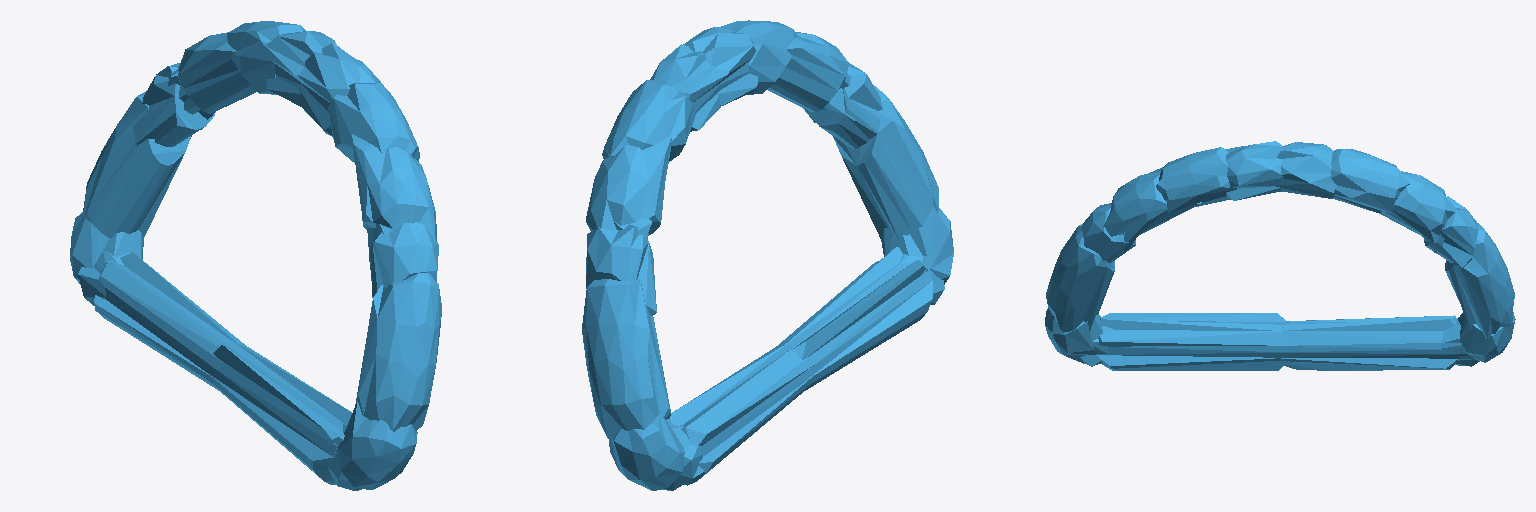
robot.urdf — partnet_8413150255e75b24c90fdc5cc248daed:
<?xml version="1.0" ?><robot name="partnet_8413150255e75b24c90fdc5cc248daed">
	<link name="base"/>
	<link name="link_0">
		<visual>
			<origin xyz="0 -0.557612365484238 -0.0010805312867160017"/>
			<geometry>
				<mesh filename="new_objs/100461_link_0_10.obj"/>
			</geometry>
		</visual>
	<visual>
			<origin xyz="0 -0.557612365484238 -0.0010805312867160017"/>
			<geometry>
				<mesh filename="new_objs/100461_link_0_16.obj"/>
			</geometry>
		</visual>
	<visual>
			<origin xyz="0 -0.557612365484238 -0.0010805312867160017"/>
			<geometry>
				<mesh filename="new_objs/100461_link_0_12.obj"/>
			</geometry>
		</visual>
	<visual>
			<origin xyz="0 -0.557612365484238 -0.0010805312867160017"/>
			<geometry>
				<mesh filename="new_objs/100461_link_0_5.obj"/>
			</geometry>
		</visual>
	<visual>
			<origin xyz="0 -0.557612365484238 -0.0010805312867160017"/>
			<geometry>
				<mesh filename="new_objs/100461_link_0_0.obj"/>
			</geometry>
		</visual>
	<visual>
			<origin xyz="0 -0.557612365484238 -0.0010805312867160017"/>
			<geometry>
				<mesh filename="new_objs/100461_link_0_13.obj"/>
			</geometry>
		</visual>
	<visual>
			<origin xyz="0 -0.557612365484238 -0.0010805312867160017"/>
			<geometry>
				<mesh filename="new_objs/100461_link_0_7.obj"/>
			</geometry>
		</visual>
	<visual>
			<origin xyz="0 -0.557612365484238 -0.0010805312867160017"/>
			<geometry>
				<mesh filename="new_objs/100461_link_0_4.obj"/>
			</geometry>
		</visual>
	<visual>
			<origin xyz="0 -0.557612365484238 -0.0010805312867160017"/>
			<geometry>
				<mesh filename="new_objs/100461_link_0_15.obj"/>
			</geometry>
		</visual>
	<visual>
			<origin xyz="0 -0.557612365484238 -0.0010805312867160017"/>
			<geometry>
				<mesh filename="new_objs/100461_link_0_17.obj"/>
			</geometry>
		</visual>
	<visual>
			<origin xyz="0 -0.557612365484238 -0.0010805312867160017"/>
			<geometry>
				<mesh filename="new_objs/100461_link_0_8.obj"/>
			</geometry>
		</visual>
	<visual>
			<origin xyz="0 -0.557612365484238 -0.0010805312867160017"/>
			<geometry>
				<mesh filename="new_objs/100461_link_0_11.obj"/>
			</geometry>
		</visual>
	<visual>
			<origin xyz="0 -0.557612365484238 -0.0010805312867160017"/>
			<geometry>
				<mesh filename="new_objs/100461_link_0_1.obj"/>
			</geometry>
		</visual>
	<visual>
			<origin xyz="0 -0.557612365484238 -0.0010805312867160017"/>
			<geometry>
				<mesh filename="new_objs/100461_link_0_6.obj"/>
			</geometry>
		</visual>
	<visual>
			<origin xyz="0 -0.557612365484238 -0.0010805312867160017"/>
			<geometry>
				<mesh filename="new_objs/100461_link_0_3.obj"/>
			</geometry>
		</visual>
	<visual>
			<origin xyz="0 -0.557612365484238 -0.0010805312867160017"/>
			<geometry>
				<mesh filename="new_objs/100461_link_0_9.obj"/>
			</geometry>
		</visual>
	<visual>
			<origin xyz="0 -0.557612365484238 -0.0010805312867160017"/>
			<geometry>
				<mesh filename="new_objs/100461_link_0_2.obj"/>
			</geometry>
		</visual>
	<visual>
			<origin xyz="0 -0.557612365484238 -0.0010805312867160017"/>
			<geometry>
				<mesh filename="new_objs/100461_link_0_14.obj"/>
			</geometry>
		</visual>
	
		<collision>
			<origin xyz="0 -0.557612365484238 -0.0010805312867160017"/>
			<geometry>
				<mesh filename="new_objs/100461_link_0_10.obj"/>
			</geometry>
		</collision><collision>
			<origin xyz="0 -0.557612365484238 -0.0010805312867160017"/>
			<geometry>
				<mesh filename="new_objs/100461_link_0_16.obj"/>
			</geometry>
		</collision><collision>
			<origin xyz="0 -0.557612365484238 -0.0010805312867160017"/>
			<geometry>
				<mesh filename="new_objs/100461_link_0_12.obj"/>
			</geometry>
		</collision><collision>
			<origin xyz="0 -0.557612365484238 -0.0010805312867160017"/>
			<geometry>
				<mesh filename="new_objs/100461_link_0_5.obj"/>
			</geometry>
		</collision><collision>
			<origin xyz="0 -0.557612365484238 -0.0010805312867160017"/>
			<geometry>
				<mesh filename="new_objs/100461_link_0_0.obj"/>
			</geometry>
		</collision><collision>
			<origin xyz="0 -0.557612365484238 -0.0010805312867160017"/>
			<geometry>
				<mesh filename="new_objs/100461_link_0_13.obj"/>
			</geometry>
		</collision><collision>
			<origin xyz="0 -0.557612365484238 -0.0010805312867160017"/>
			<geometry>
				<mesh filename="new_objs/100461_link_0_7.obj"/>
			</geometry>
		</collision><collision>
			<origin xyz="0 -0.557612365484238 -0.0010805312867160017"/>
			<geometry>
				<mesh filename="new_objs/100461_link_0_4.obj"/>
			</geometry>
		</collision><collision>
			<origin xyz="0 -0.557612365484238 -0.0010805312867160017"/>
			<geometry>
				<mesh filename="new_objs/100461_link_0_15.obj"/>
			</geometry>
		</collision><collision>
			<origin xyz="0 -0.557612365484238 -0.0010805312867160017"/>
			<geometry>
				<mesh filename="new_objs/100461_link_0_17.obj"/>
			</geometry>
		</collision><collision>
			<origin xyz="0 -0.557612365484238 -0.0010805312867160017"/>
			<geometry>
				<mesh filename="new_objs/100461_link_0_8.obj"/>
			</geometry>
		</collision><collision>
			<origin xyz="0 -0.557612365484238 -0.0010805312867160017"/>
			<geometry>
				<mesh filename="new_objs/100461_link_0_11.obj"/>
			</geometry>
		</collision><collision>
			<origin xyz="0 -0.557612365484238 -0.0010805312867160017"/>
			<geometry>
				<mesh filename="new_objs/100461_link_0_1.obj"/>
			</geometry>
		</collision><collision>
			<origin xyz="0 -0.557612365484238 -0.0010805312867160017"/>
			<geometry>
				<mesh filename="new_objs/100461_link_0_6.obj"/>
			</geometry>
		</collision><collision>
			<origin xyz="0 -0.557612365484238 -0.0010805312867160017"/>
			<geometry>
				<mesh filename="new_objs/100461_link_0_3.obj"/>
			</geometry>
		</collision><collision>
			<origin xyz="0 -0.557612365484238 -0.0010805312867160017"/>
			<geometry>
				<mesh filename="new_objs/100461_link_0_9.obj"/>
			</geometry>
		</collision><collision>
			<origin xyz="0 -0.557612365484238 -0.0010805312867160017"/>
			<geometry>
				<mesh filename="new_objs/100461_link_0_2.obj"/>
			</geometry>
		</collision><collision>
			<origin xyz="0 -0.557612365484238 -0.0010805312867160017"/>
			<geometry>
				<mesh filename="new_objs/100461_link_0_14.obj"/>
			</geometry>
		</collision></link>
	<joint name="joint_0" type="revolute">
		<origin xyz="0 0.557612365484238 0.0010805312867160017"/>
		<axis xyz="-1 0 0"/>
		<child link="link_0"/>
		<parent link="link_1"/>
		<limit lower="0.622" upper="4.3165483060323755"/>
	</joint>
	<link name="link_1">
		<collision>
			<origin xyz="0 0 0"/>
			<geometry>
				<mesh filename="new_objs/100461_link_1_6.obj"/>
			</geometry>
		</collision>
		<collision>
			<origin xyz="0 0 0"/>
			<geometry>
				<mesh filename="new_objs/100461_link_1_8.obj"/>
			</geometry>
		</collision>
		<collision>
			<origin xyz="0 0 0"/>
			<geometry>
				<mesh filename="new_objs/100461_link_1_0.obj"/>
			</geometry>
		</collision>
		<collision>
			<origin xyz="0 0 0"/>
			<geometry>
				<mesh filename="new_objs/100461_link_1_4.obj"/>
			</geometry>
		</collision>
		<collision>
			<origin xyz="0 0 0"/>
			<geometry>
				<mesh filename="new_objs/100461_link_1_3.obj"/>
			</geometry>
		</collision>
		<collision>
			<origin xyz="0 0 0"/>
			<geometry>
				<mesh filename="new_objs/100461_link_1_10.obj"/>
			</geometry>
		</collision>
		<collision>
			<origin xyz="0 0 0"/>
			<geometry>
				<mesh filename="new_objs/100461_link_1_5.obj"/>
			</geometry>
		</collision>
		<collision>
			<origin xyz="0 0 0"/>
			<geometry>
				<mesh filename="new_objs/100461_link_1_2.obj"/>
			</geometry>
		</collision>
		<collision>
			<origin xyz="0 0 0"/>
			<geometry>
				<mesh filename="new_objs/100461_link_1_7.obj"/>
			</geometry>
		</collision>
		<collision>
			<origin xyz="0 0 0"/>
			<geometry>
				<mesh filename="new_objs/100461_link_1_11.obj"/>
			</geometry>
		</collision>
		<collision>
			<origin xyz="0 0 0"/>
			<geometry>
				<mesh filename="new_objs/100461_link_1_9.obj"/>
			</geometry>
		</collision>
		<collision>
			<origin xyz="0 0 0"/>
			<geometry>
				<mesh filename="new_objs/100461_link_1_1.obj"/>
			</geometry>
		</collision>
		<visual name="base_body-part[&quot;id]">
			<origin xyz="0 0 0"/>
			<geometry>
				<mesh filename="textured_objs/original-4.obj"/>
			</geometry>
		</visual>
		<visual name="base_body-part[&quot;id]">
			<origin xyz="0 0 0"/>
			<geometry>
				<mesh filename="textured_objs/original-2.obj"/>
			</geometry>
		</visual>
		<visual name="base_body-part[&quot;id]">
			<origin xyz="0 0 0"/>
			<geometry>
				<mesh filename="textured_objs/original-5.obj"/>
			</geometry>
		</visual>
		<visual name="base_body-part[&quot;id]">
			<origin xyz="0 0 0"/>
			<geometry>
				<mesh filename="textured_objs/original-1.obj"/>
			</geometry>
		</visual>
		</link>
	<joint name="joint_1" type="fixed">
		<origin rpy="1.570796326794897 0 -1.570796326794897" xyz="0 0 0"/>
		<child link="link_1"/>
		<parent link="base"/>
	</joint>
</robot>

--- Facts derived from the render (not from the file) ---
The picture shows the robot from 3 angles, left to right: view 1: azimuth 30°, elevation 25°; view 2: azimuth 150°, elevation 25°; view 3: azimuth 270°, elevation 25°; orthographic projection.
Model partnet_8413150255e75b24c90fdc5cc248daed with 3 links and 2 joints (1 revolute, 1 fixed), rooted at base, posed joints at zero except 1 at the middle of their limits (joint_0 = 2.47).
Visible links, largest first — view 1: link_0; view 2: link_0; view 3: link_0.
Link boxes in pixels (bbox=[...]): link_0: bbox=[70, 21, 441, 490]; link_0: bbox=[582, 20, 953, 490]; link_0: bbox=[1045, 141, 1515, 370].
Bounding box of the posed robot: 0.469 × 1.61 × 0.9713 m (x, y, z).
18 mesh visuals loaded from 22 distinct referenced files (18 OBJ); not drawn: 4 (reference not matched to a file when rendering).
